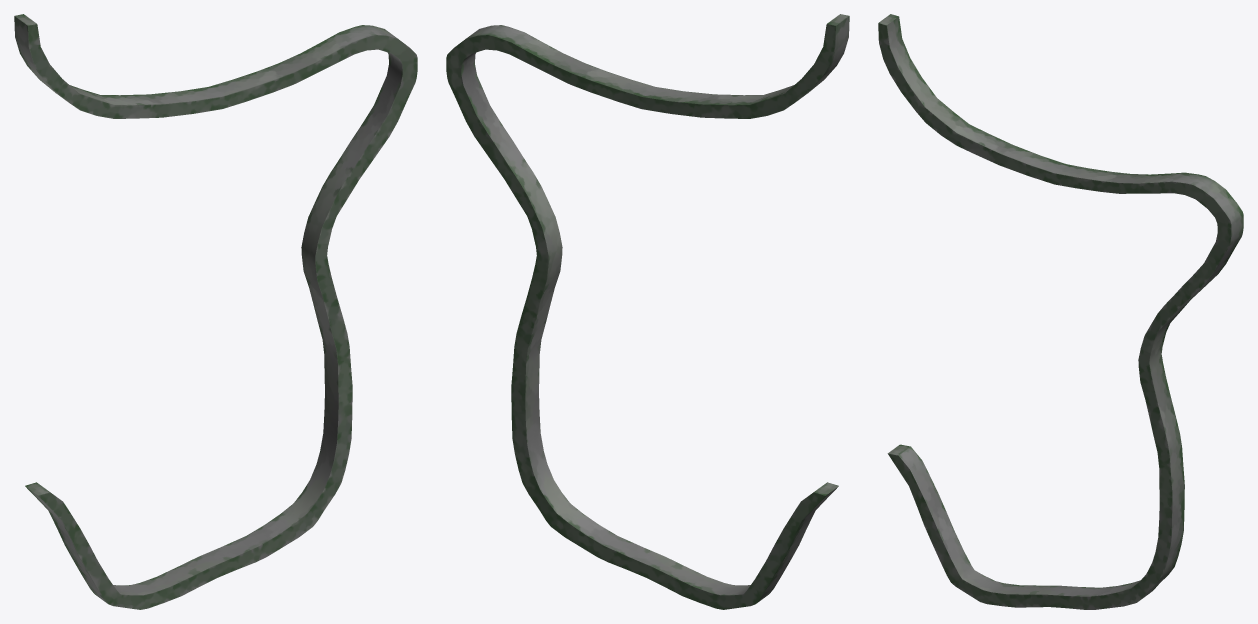
Rendered from Zone1SMallWall.fbx.
3 views of the same model, side by side, from view 1: azimuth 30°, elevation 25°; view 2: azimuth 150°, elevation 25°; view 3: azimuth 330°, elevation 25° (orthographic). The views are drawn at different scales.
Parts seen in each view (by area): view 1: Plane.003; view 2: Plane.003; view 3: Plane.003.
Part boxes in pixels (box(x1,y1,x2,y2)): Plane.003: box(14, 14, 417, 609); Plane.003: box(446, 14, 849, 609); Plane.003: box(878, 14, 1243, 609).
Size of the model in its own units: 1632 by 2449 by 99.4.
1 material, 1 textured.
